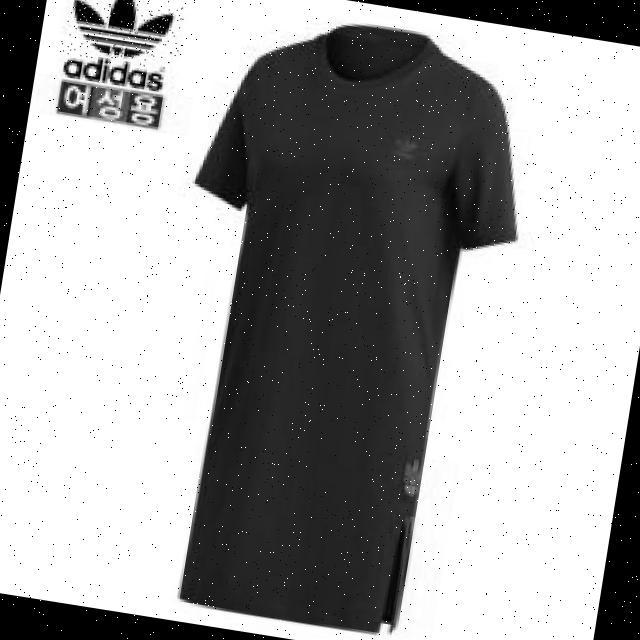Adidas: (58, 0, 189, 72)
